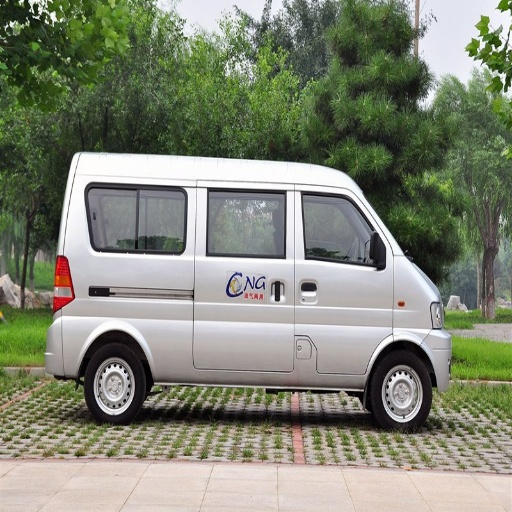back_right_door: (78, 179, 294, 368)
trunk: (59, 292, 231, 383)
